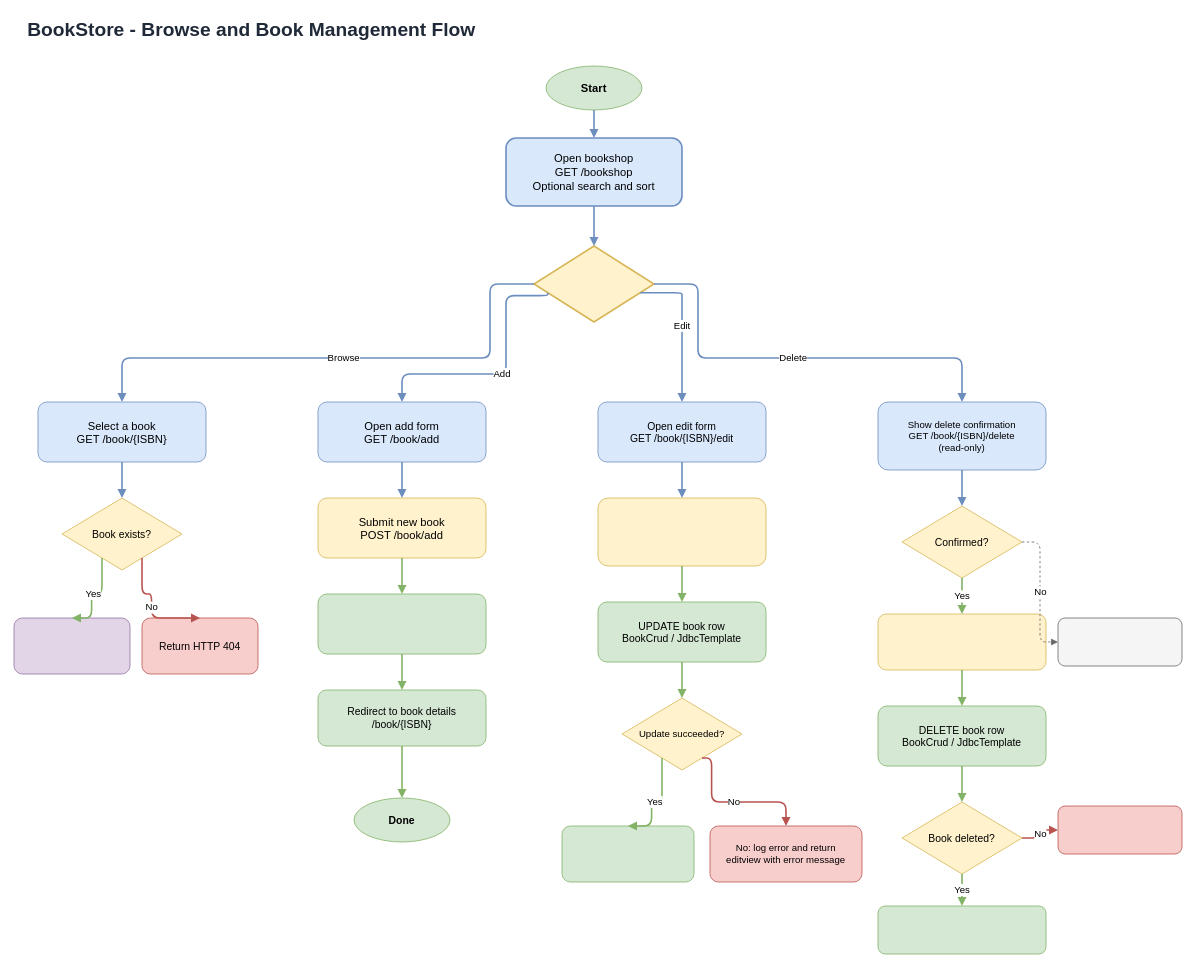
This 1196x968 diagram has some shape labels left out. The shapes that lost their labels are listed below. From the top down, each one's centre as x and y in pixels, then its label:
At pixel 593 283: "Choose action".
At pixel 681 531: "Submit changes POST /book/{ISBN}/edit ISBN taken from URL".
At pixel 401 623: "INSERT book row BookCrud / JdbcTemplate".
At pixel 961 641: "Yes: POST /book/{ISBN}/drop".
At pixel 1119 641: "No: cancel delete".
At pixel 71 645: "Show book details bookview".
At pixel 1119 829: "No: return HTTP 404".
At pixel 627 853: "Yes: redirect to /book/{ISBN}".
At pixel 961 929: "Yes: show changesSaved".
